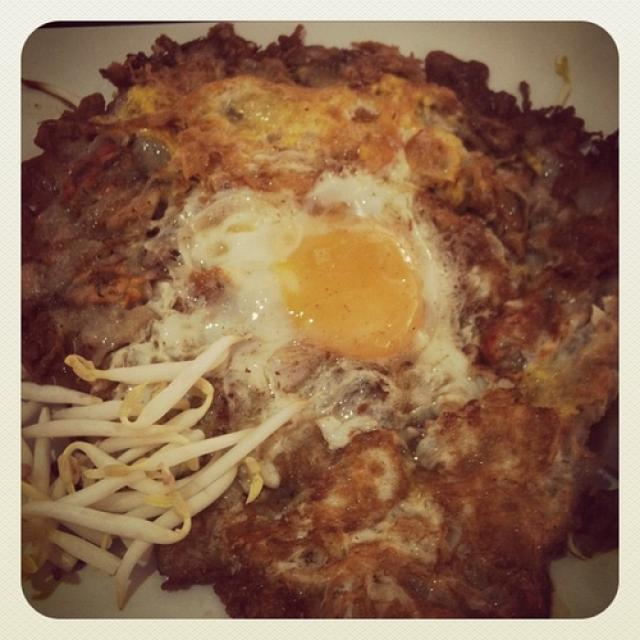炸货点心: (32, 32, 613, 602)
蛋糕甜品: (32, 32, 613, 602)
